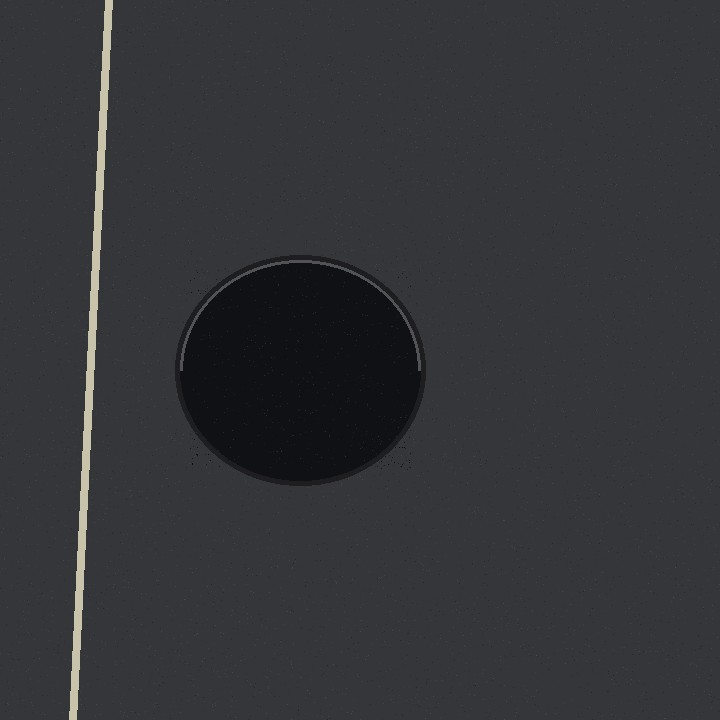D40: (240, 350, 380, 460)
